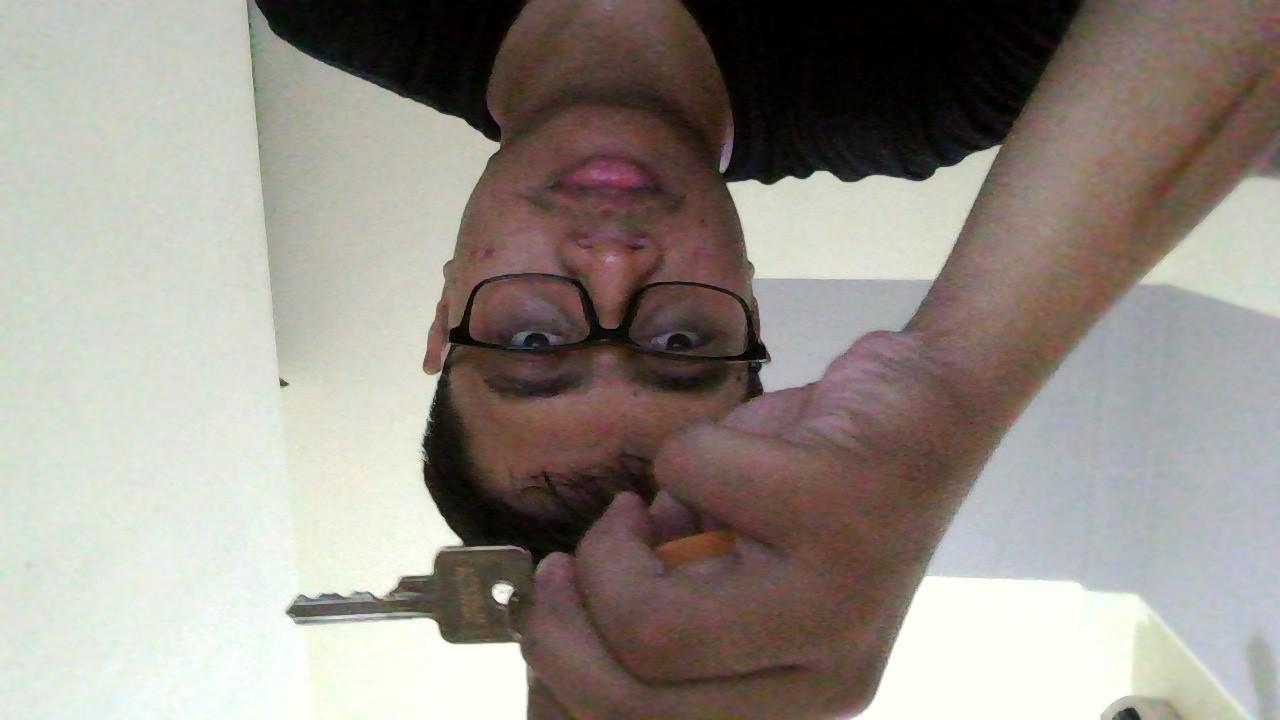keys: (276, 533, 547, 657)
